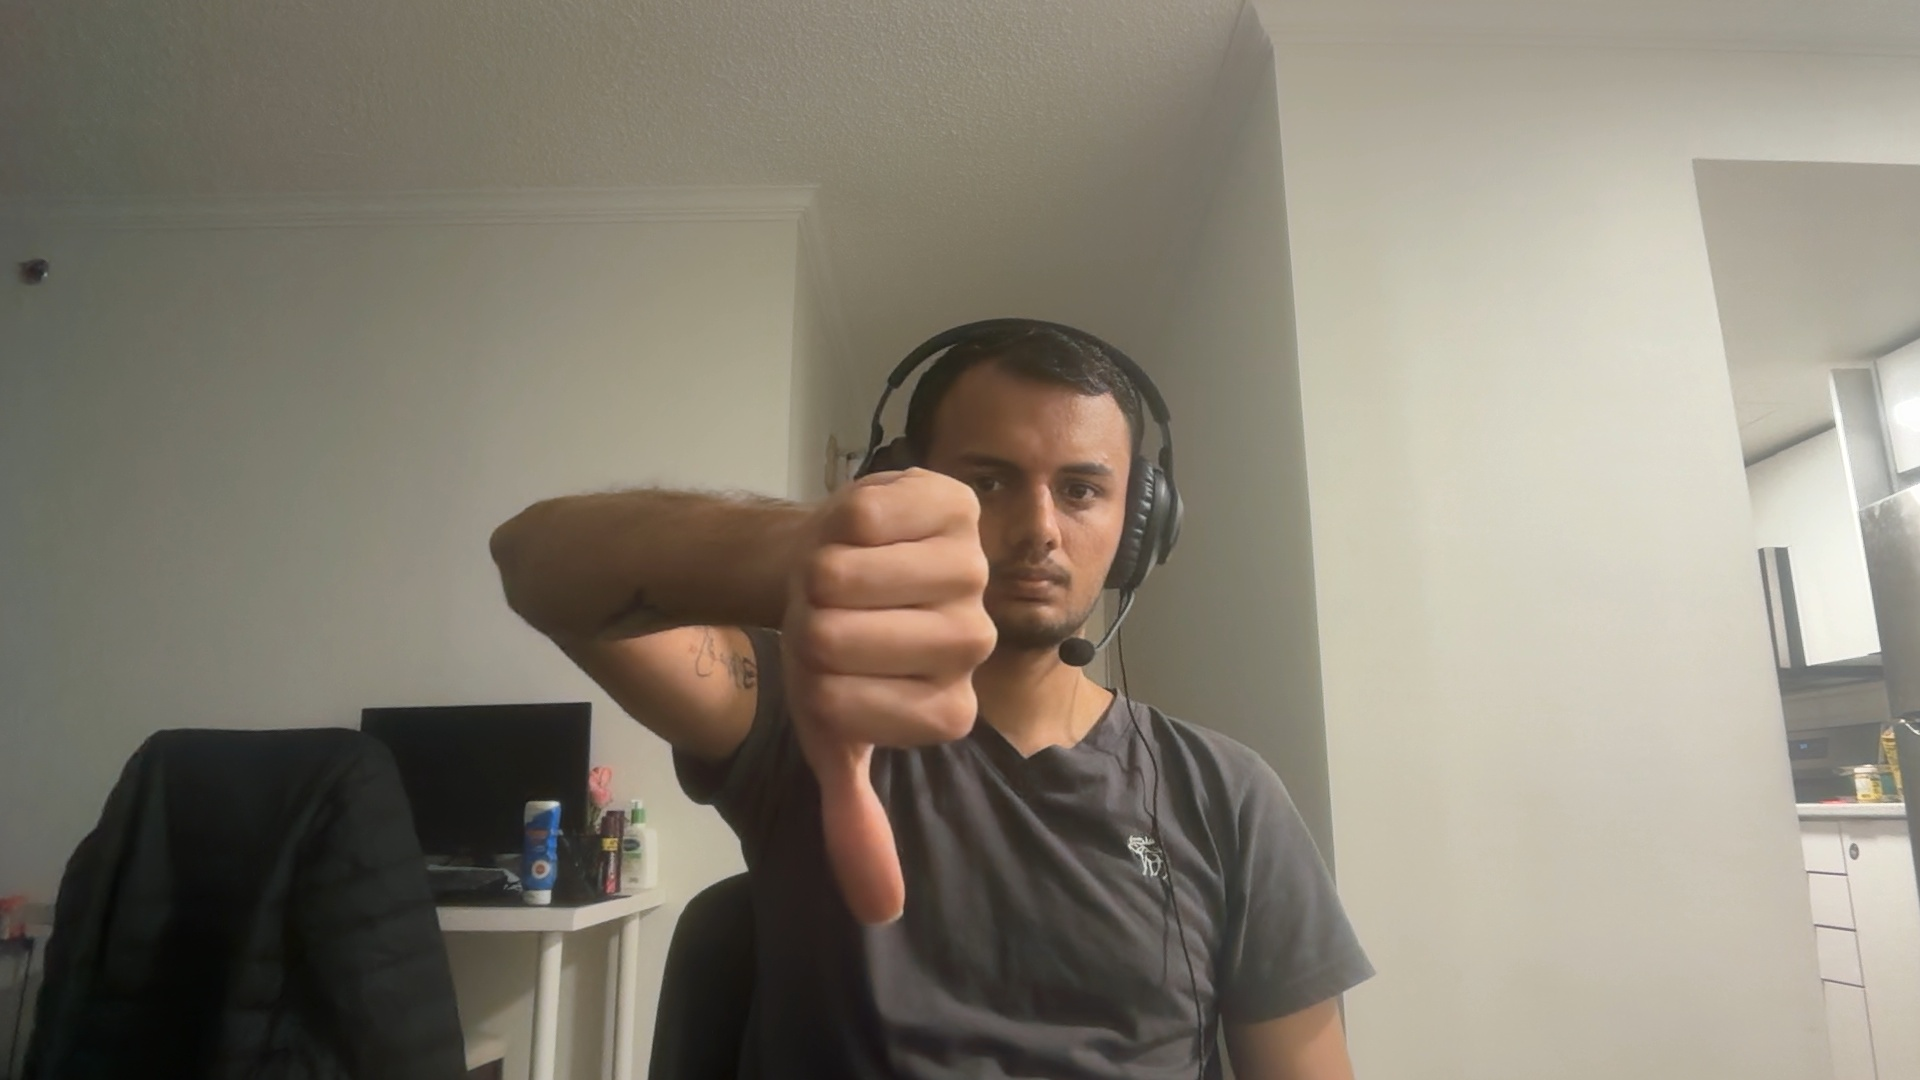thumbsdown: (785, 464, 1000, 928)
